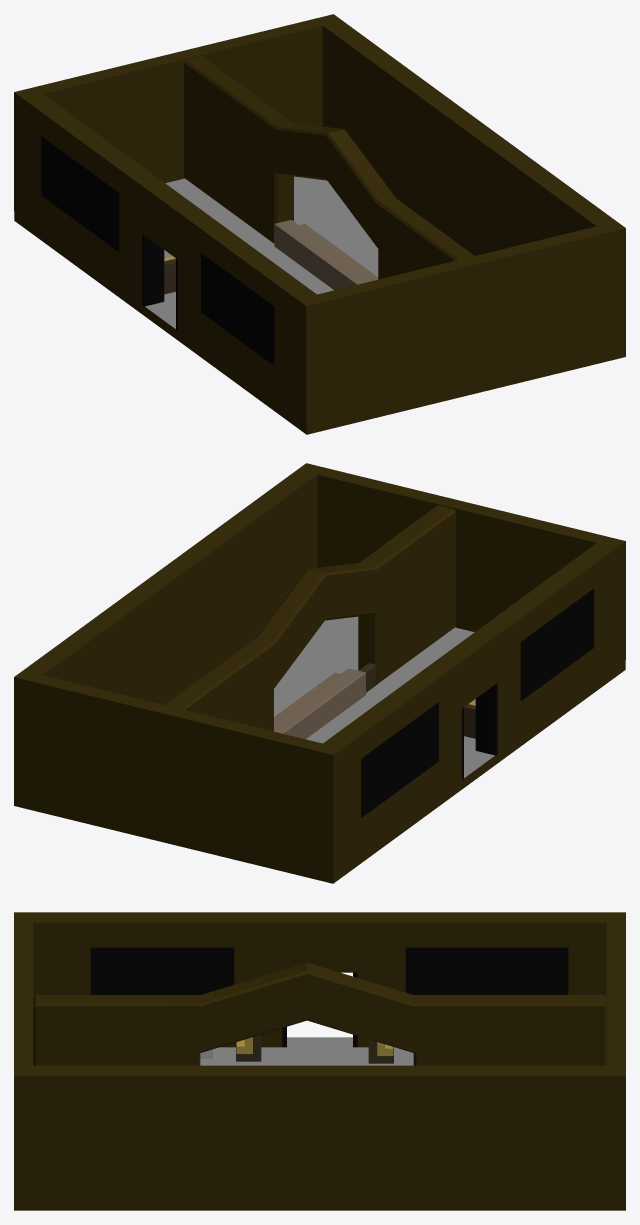
Rendered from Store_V3.fbx.
3 views of the same model, one above another, from view 1: azimuth 30°, elevation 25°; view 2: azimuth 150°, elevation 25°; view 3: azimuth 270°, elevation 25° (orthographic). The views are drawn at different scales.
Parts seen in each view (by area): view 1: Wall2, Arch, Floor, Counter; view 2: Wall2, Arch, Floor, Counter; view 3: Wall2, Arch, Floor.
Part boxes in pixels (box(x1,y1,x2,y2)): Wall2: box(14, 14, 625, 424); Arch: box(184, 56, 474, 279); Floor: box(14, 176, 625, 434); Counter: box(274, 220, 378, 290); Wall2: box(14, 463, 625, 873); Arch: box(165, 505, 455, 731); Floor: box(14, 616, 625, 883); Counter: box(274, 668, 365, 739); Wall2: box(14, 912, 625, 1200); Arch: box(33, 962, 606, 1065); Floor: box(14, 1037, 625, 1210).
Bounding box in the file's own units: 8.75 × 4.18 × 13.87.
